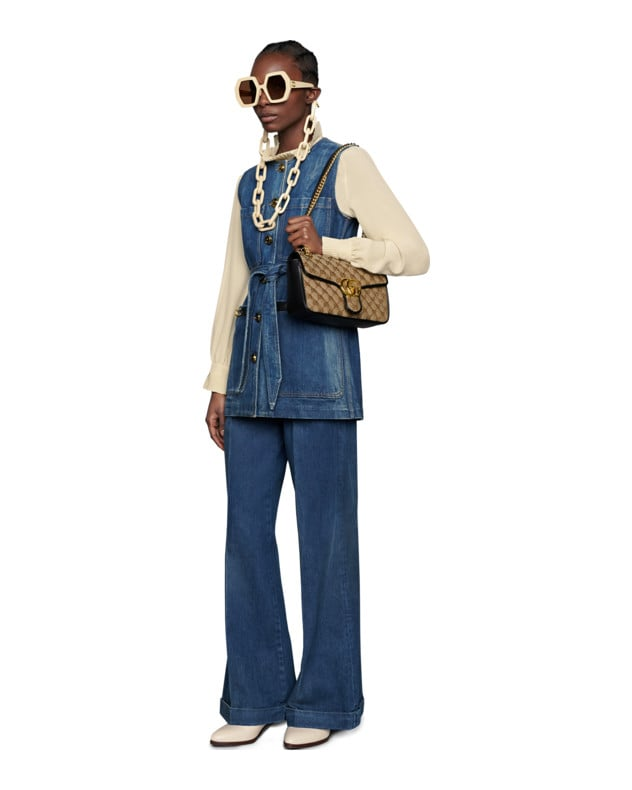Gucci: (295, 232, 395, 337), (332, 271, 366, 294)
